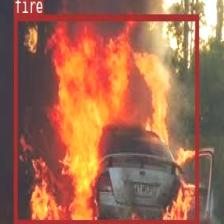fire: (13, 13, 197, 224)
